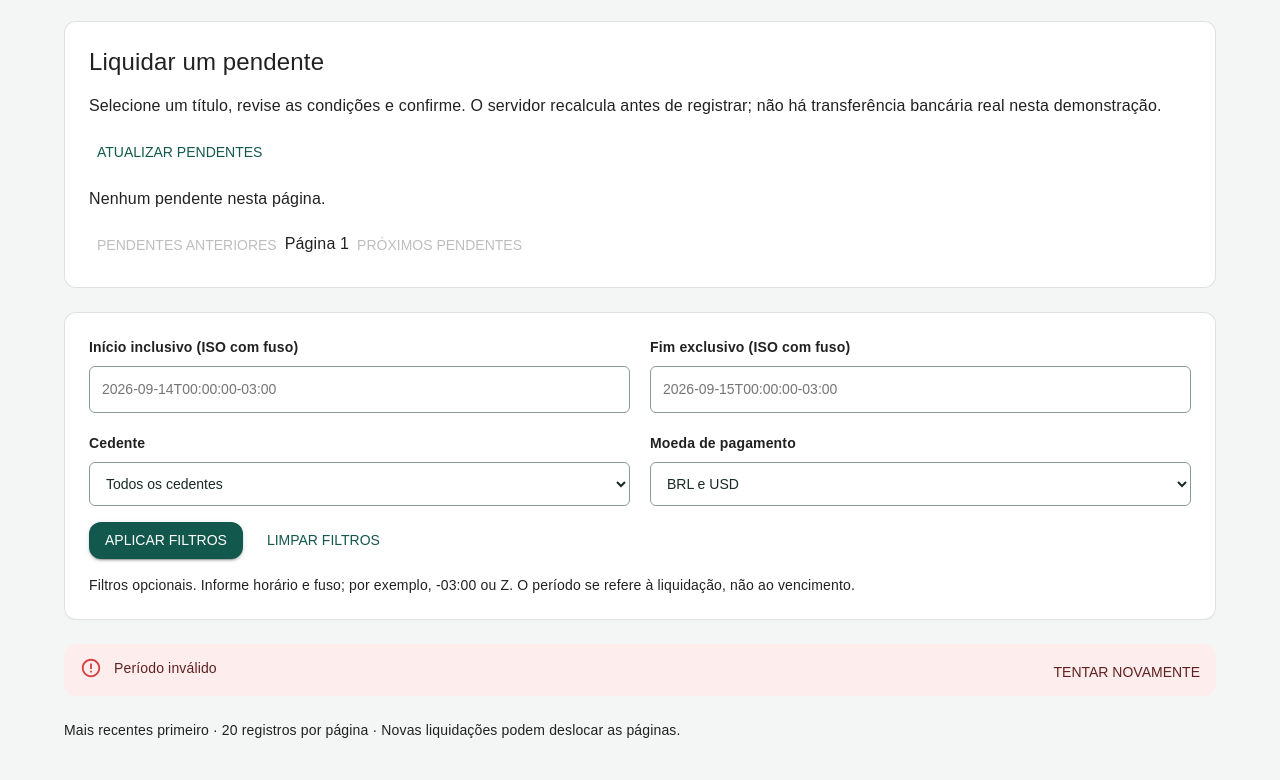
Test case: shows API errors and allows manual retry
The width and height of the screenshot is (1280, 780).
(page scrolled)
Check: the text "Período inválido" is shown, box top-left (114, 660), bottom-right (217, 676)
Click the button "Tentar novamente": (1127, 672) top-left (1046, 654), bottom-right (1208, 690)
(page scrolled)
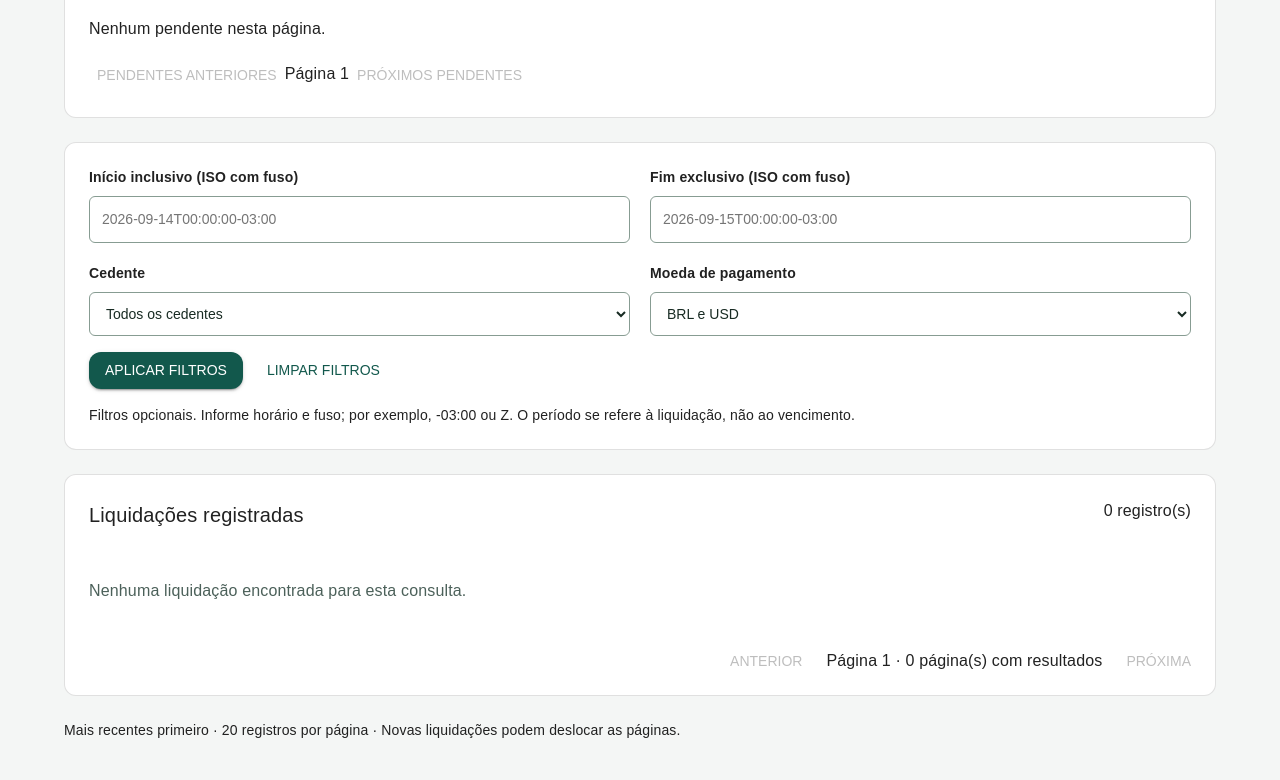
Check: the text "Nenhuma liquidação encontrada para esta consulta." is shown, box top-left (89, 582), bottom-right (466, 598)
